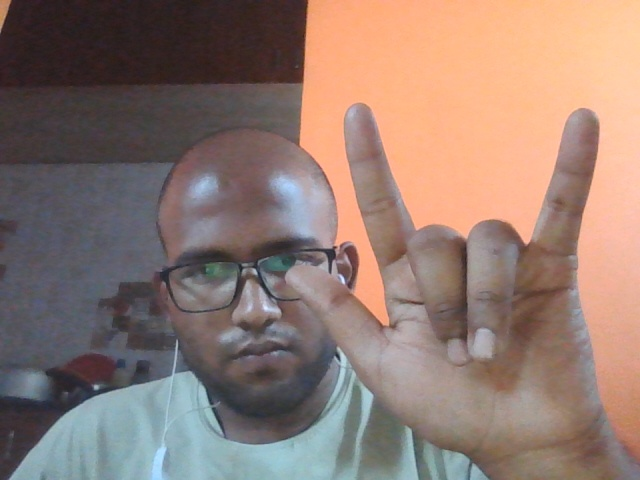iloveyou: (281, 73, 631, 480)
